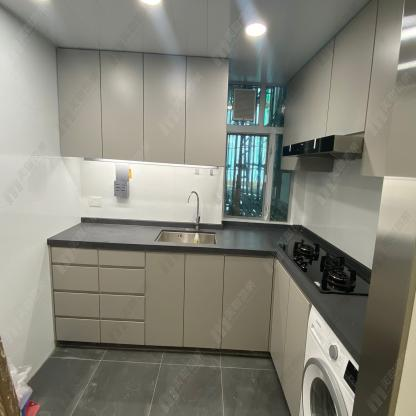Cupboard: (46, 246, 310, 416), (281, 0, 416, 182), (55, 46, 231, 168)
Exhaust Fan: (233, 88, 255, 121)
Exhaust Hood: (282, 136, 363, 160)
Faucet: (185, 189, 203, 230)
Sink: (153, 229, 216, 245)
Stove: (277, 236, 372, 295)
Washing Machine: (297, 302, 360, 416)
